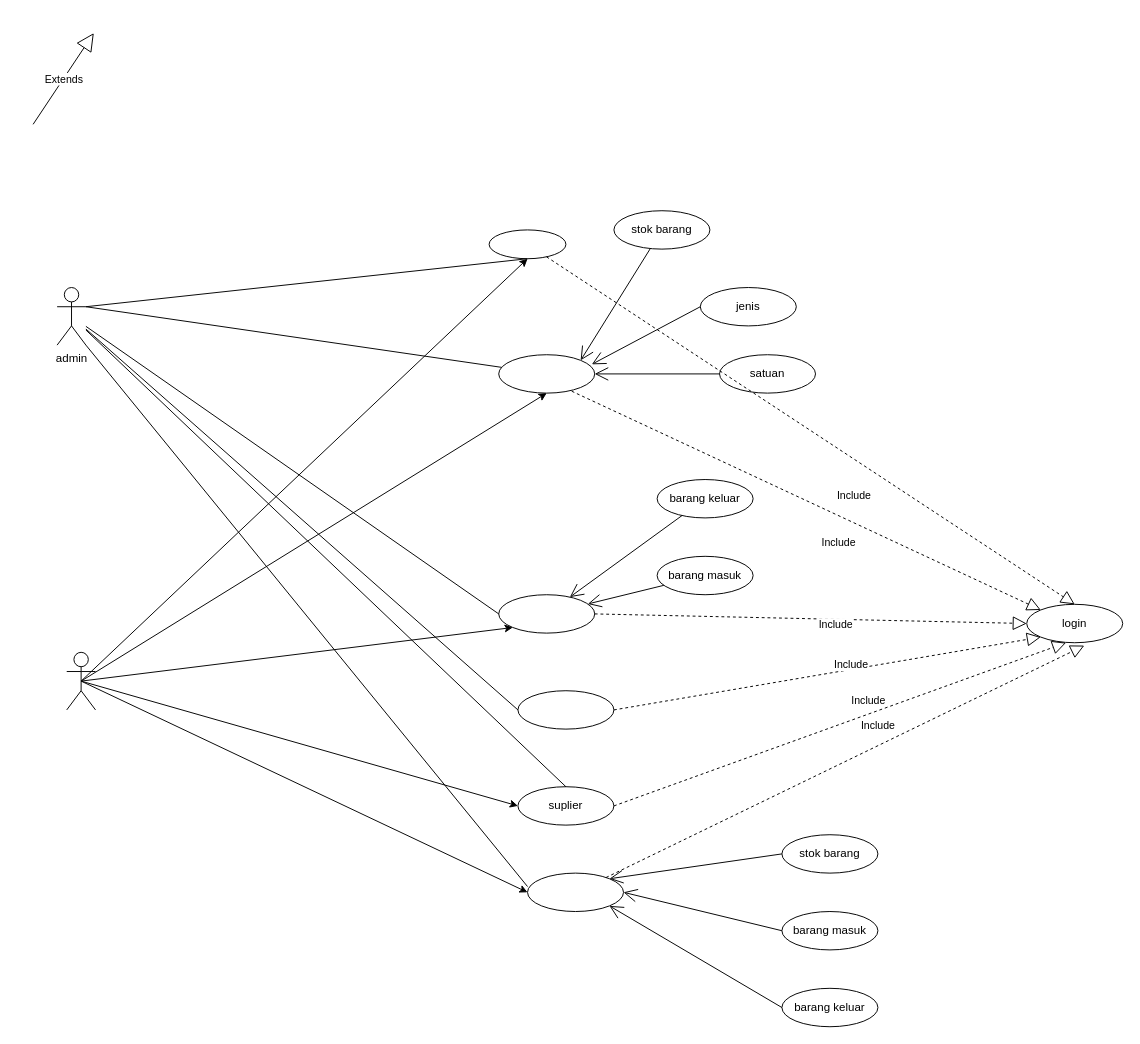
Some shapes in this 1140 by 1044 pixel diagram are drawn without their labels. The box of each missing label's shape, as (x1, y1, x2, y2) in pixels:
data gudang: (498, 354, 595, 393)
data pegawai: (517, 690, 614, 729)
laporan: (527, 872, 624, 912)
logout: (488, 229, 566, 259)
pegawai: (66, 651, 96, 710)
transaksi: (498, 594, 595, 633)
